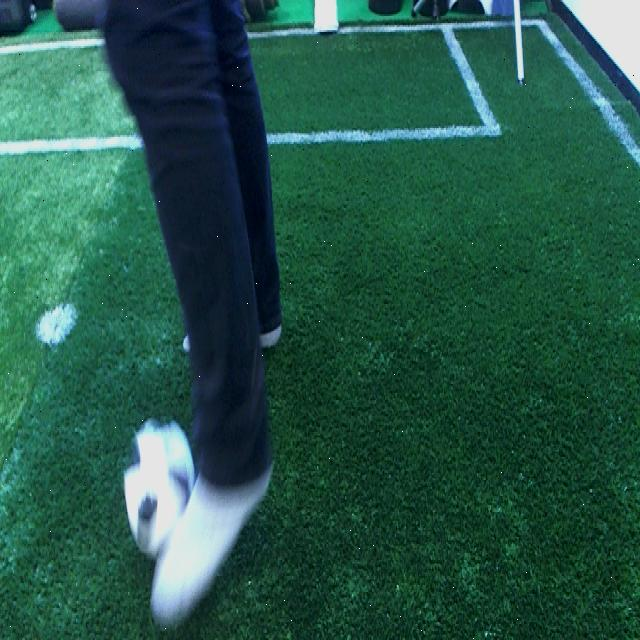ball: (123, 409, 192, 551)
